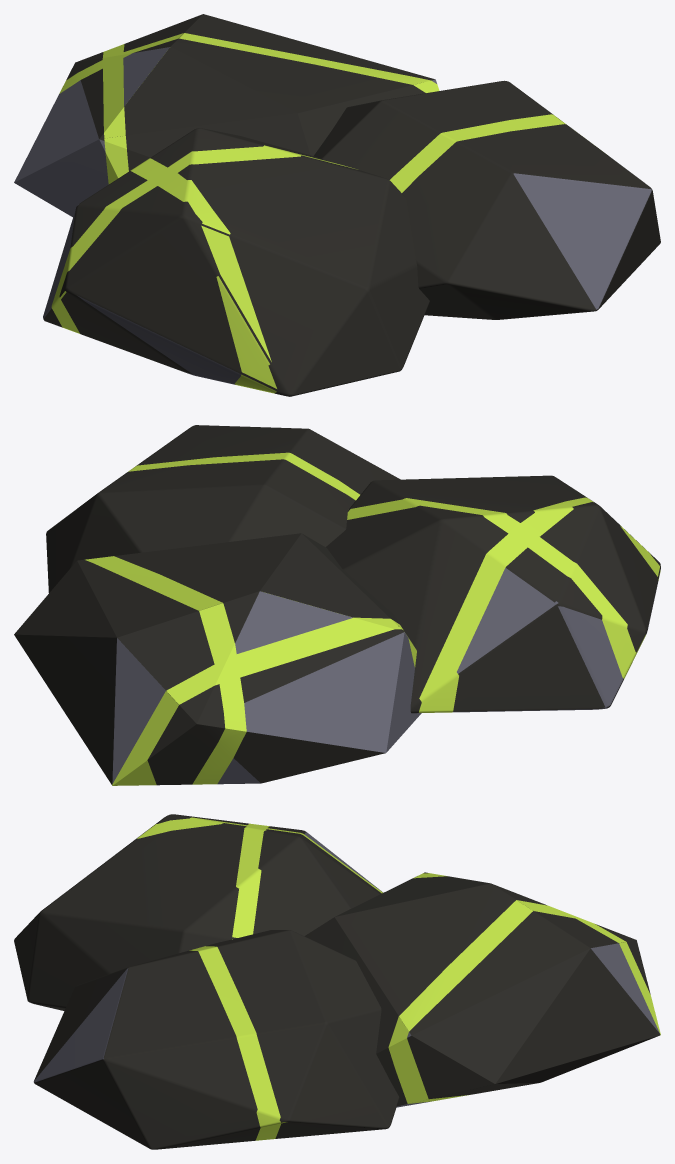
The model's file is minerai_uraninite_2.glb.
3 renders of one model, top to bottom at view 1: azimuth 30°, elevation 25°; view 2: azimuth 150°, elevation 25°; view 3: azimuth 270°, elevation 25°, orthographic. The views are drawn at different scales.
Visible parts, largest first — view 1: minerai_pechblende.004, minerai_charbon_brillant.008, minerai_autunite.004; view 2: minerai_pechblende.004, minerai_charbon_brillant.008, minerai_autunite.004; view 3: minerai_pechblende.004, minerai_autunite.004, minerai_charbon_brillant.008.
Part boxes in pixels (box(x1,y1,x2,y2)): minerai_pechblende.004: box(43, 14, 660, 396); minerai_charbon_brillant.008: box(14, 47, 651, 384); minerai_autunite.004: box(51, 33, 565, 393); minerai_pechblende.004: box(14, 425, 660, 785); minerai_charbon_brillant.008: box(112, 568, 658, 784); minerai_autunite.004: box(85, 452, 660, 785); minerai_pechblende.004: box(14, 814, 660, 1149); minerai_autunite.004: box(137, 817, 660, 1140); minerai_charbon_brillant.008: box(33, 832, 659, 1107).
Size of the model in its own units: 0.5228 by 0.1339 by 0.5622.
